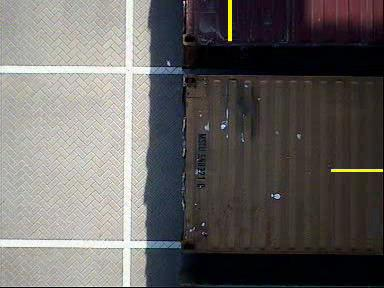groundmarker_2: (135, 64, 174, 122), (133, 230, 171, 288)
